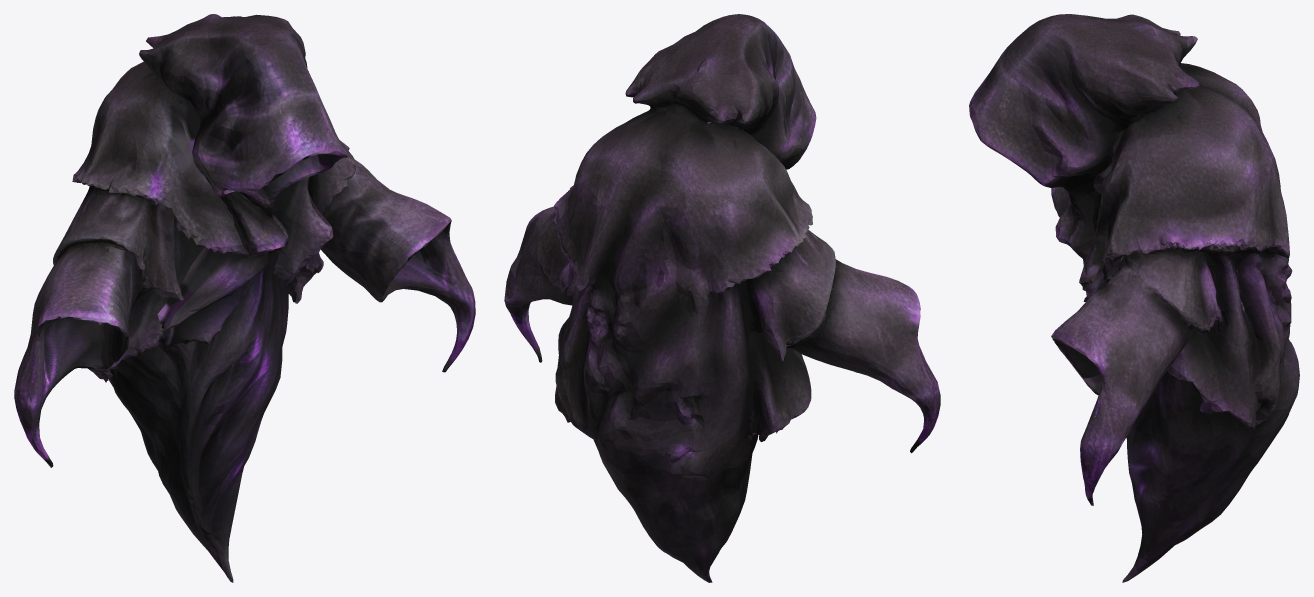
File: fear_shade.glb
3 renders of one model, left to right at view 1: azimuth 30°, elevation 25°; view 2: azimuth 150°, elevation 25°; view 3: azimuth 270°, elevation 25°, orthographic. The views are drawn at different scales.
Parts seen in each view (by area): view 1: temp_mesh.ply; view 2: temp_mesh.ply; view 3: temp_mesh.ply.
Boxes of the visible parts, <box> form: temp_mesh.ply: <box>14,14,475,582</box>; temp_mesh.ply: <box>504,14,940,582</box>; temp_mesh.ply: <box>969,14,1299,582</box>.
Bounding box in the file's own units: 1.63 × 1.97 × 1.05.
Materials: 1 (1 with a texture image).
